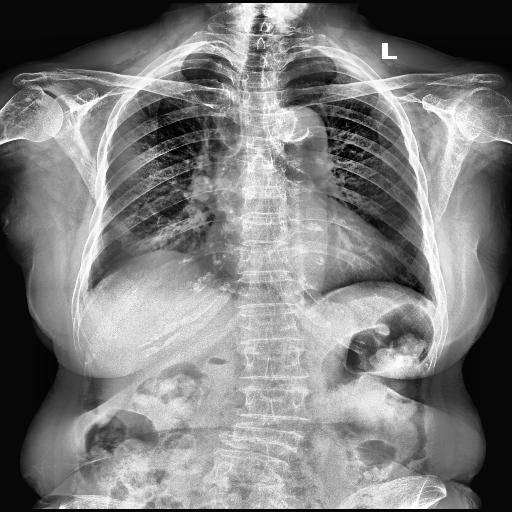0- Aortic enlargement: (267, 104, 329, 171), (262, 106, 328, 162), (266, 108, 326, 151)
11- Pleural thickening: (150, 53, 211, 76), (140, 54, 184, 80), (332, 54, 372, 81)
2- Calcification: (286, 128, 312, 140)
3- Cardiomegaly: (202, 222, 406, 288), (203, 236, 400, 280)
9- Other lesion: (110, 216, 130, 236)
